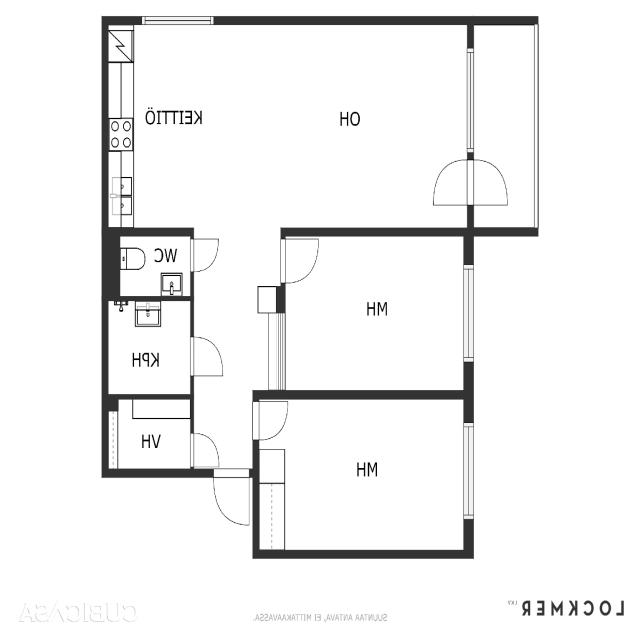door: (105, 396, 193, 474), (424, 151, 474, 210), (466, 155, 516, 211), (211, 468, 254, 527), (281, 232, 321, 287), (187, 332, 228, 378), (251, 396, 291, 442), (186, 232, 222, 276), (188, 430, 222, 467)
window: (461, 261, 479, 367), (461, 421, 478, 523), (463, 45, 478, 154), (139, 11, 218, 29), (272, 310, 286, 390)
zone: (141, 21, 415, 218), (257, 397, 472, 556), (283, 231, 470, 395), (103, 298, 193, 397), (104, 395, 192, 474), (111, 230, 192, 298)
